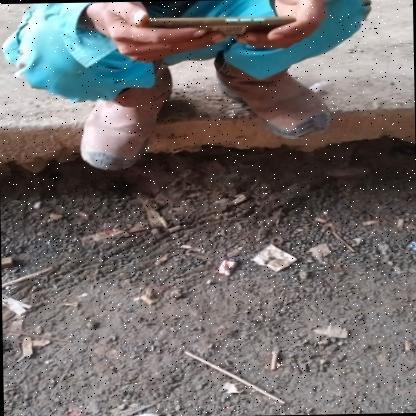bota: (209, 48, 334, 142)
